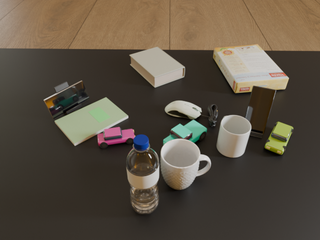book: (55, 98, 128, 146), (130, 47, 185, 88)
bottle: (126, 135, 159, 214)
box: (213, 45, 289, 93)
cup: (161, 139, 211, 190), (217, 115, 252, 157)
mouse: (165, 101, 201, 119)
phone: (44, 81, 89, 119), (245, 86, 276, 134)
toy_car: (163, 120, 207, 145), (264, 122, 293, 155), (98, 127, 135, 148)
